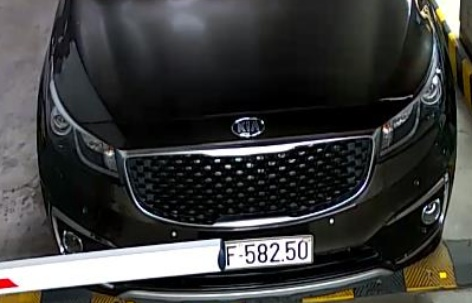plate: (215, 216, 324, 273)
